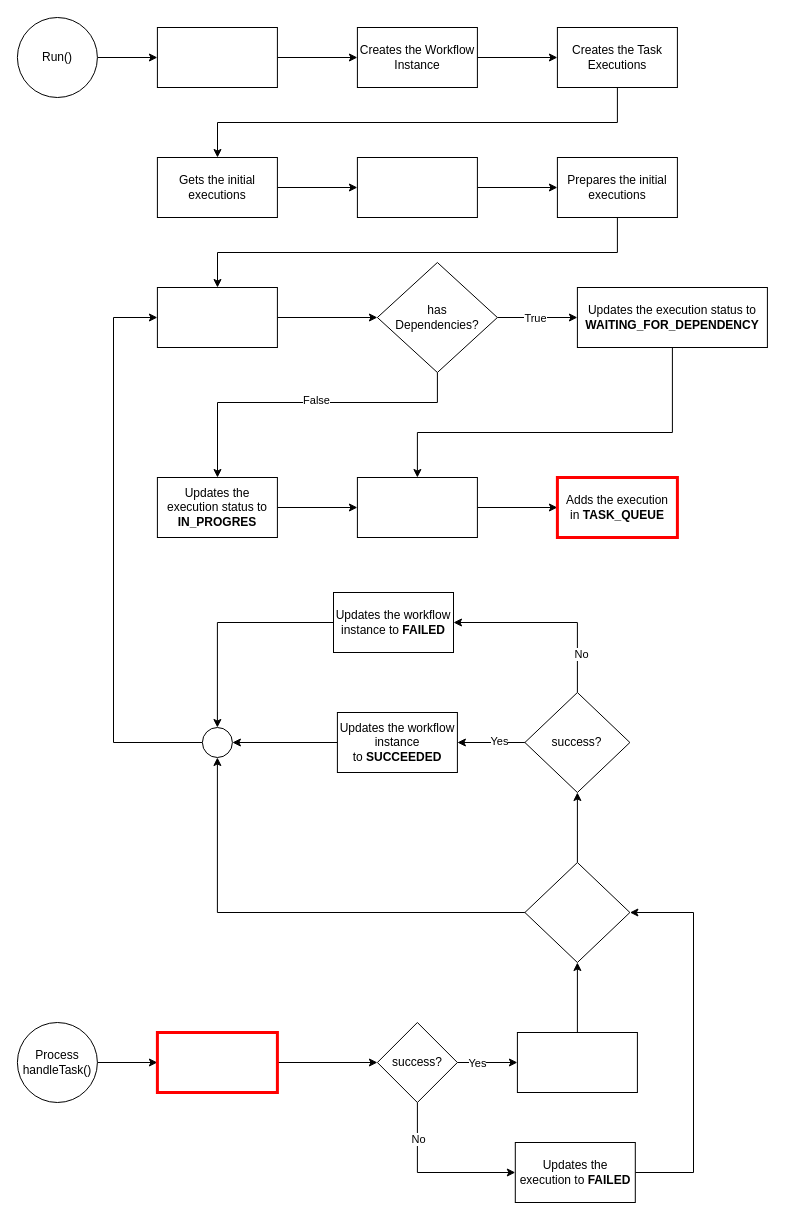
The diagram is 785 pixels wide and 1220 high, and some of its shapes have lost their labels. The shapes that lost their labels are listed below. From the top down, each one's centre as x and y in pixels, then its label:
[216,57]: Gets the defintion
[416,187]: Updates the Workflow Instance to IN_PROGRESS
[216,317]: Inits the execution
[416,507]: Appends the execution into the workflow instance current states
[577,912]: Is "end of the flow" execution?
[216,1062]: Receives the execution from the TASK_QUEUE
[576,1062]: Updates the execution to SUCCEEDED
